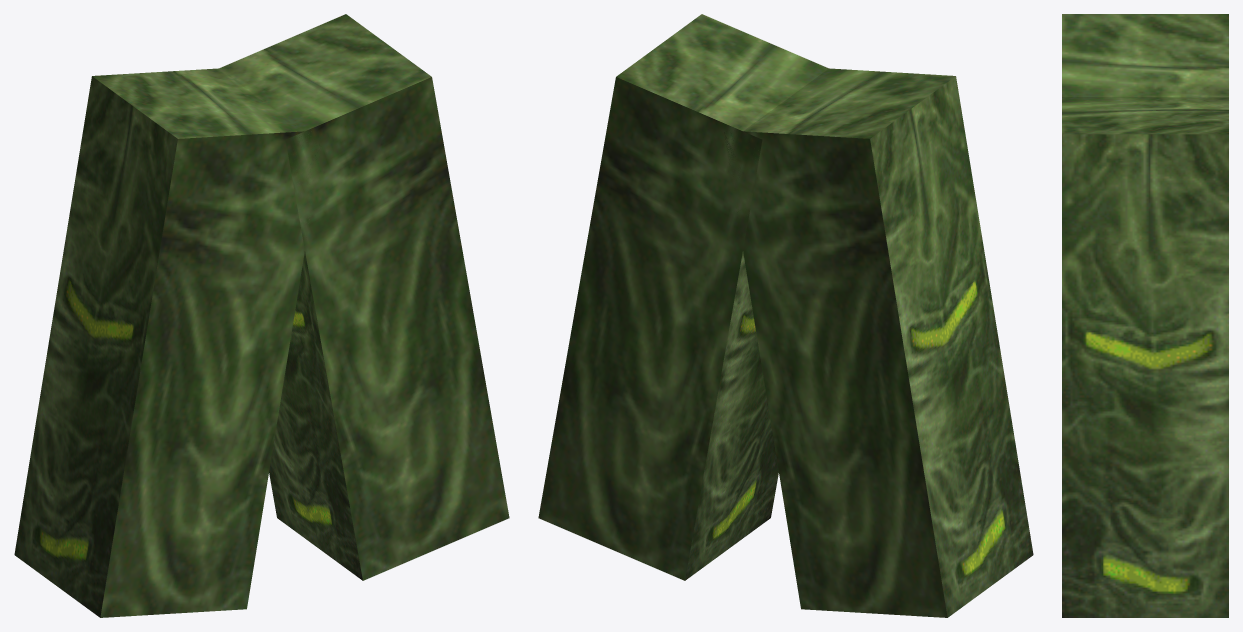
File: arm_scientist_legs.obj
The picture shows the model from 3 angles, left to right: view 1: azimuth 30°, elevation 25°; view 2: azimuth 150°, elevation 25°; view 3: azimuth 270°, elevation 25°; orthographic projection. The views are drawn at different scales.
Parts seen in each view (by area): view 1: arm_jacket_arm_Cube.001; view 2: arm_jacket_arm_Cube.001; view 3: arm_jacket_arm_Cube.001.
Boxes of the visible parts, x1,y1,x2,y2 form: arm_jacket_arm_Cube.001: (14, 14, 509, 617); arm_jacket_arm_Cube.001: (538, 14, 1033, 617); arm_jacket_arm_Cube.001: (1062, 14, 1228, 617).
Bounding box in the file's own units: 2.75 × 3.13 × 1.
